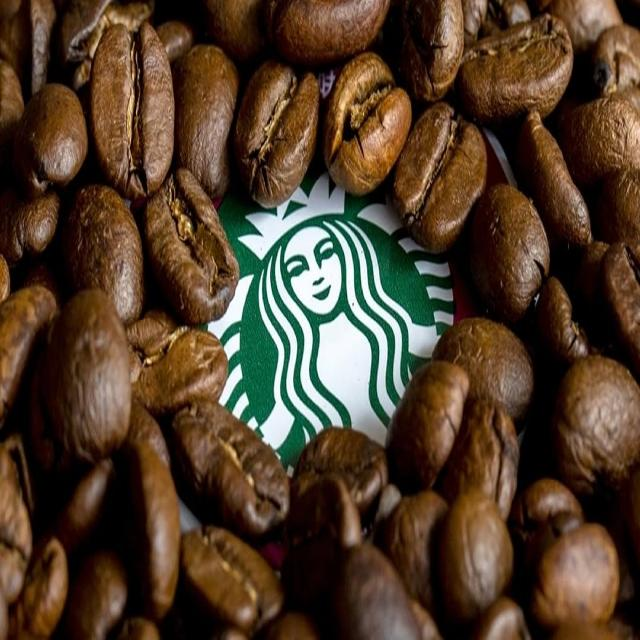starbucks: (229, 197, 423, 430)
